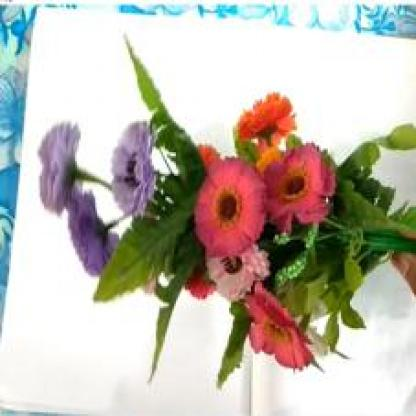flower: (33, 16, 414, 396)
